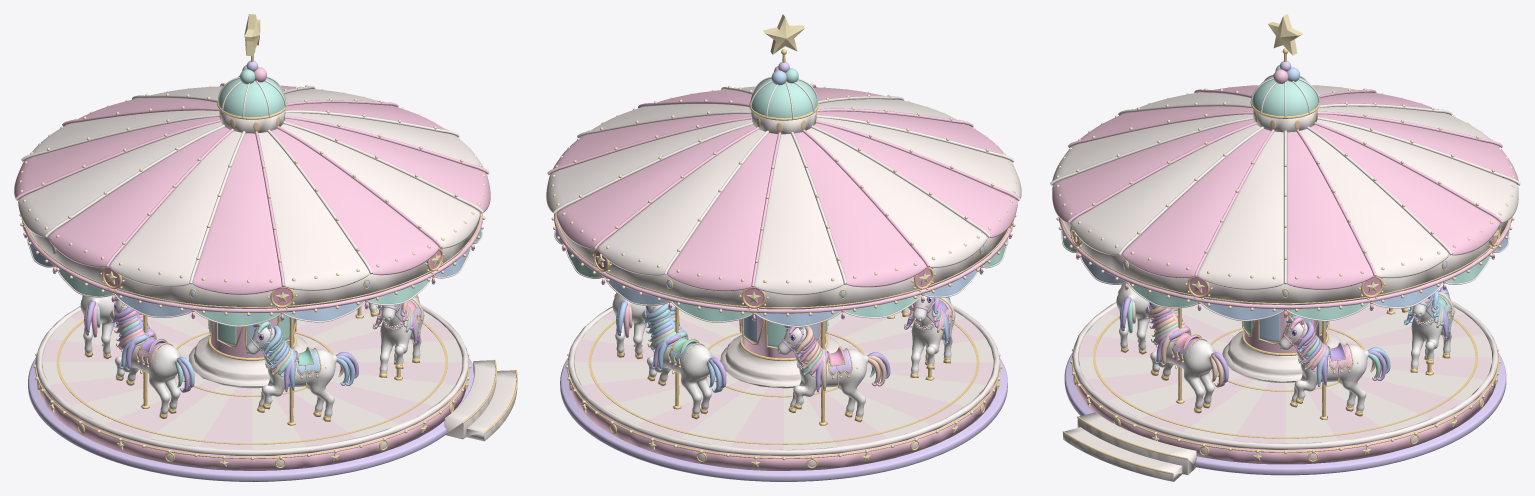
File: Carousel.fbx
3 views of the same model, side by side, from view 1: azimuth 30°, elevation 25°; view 2: azimuth 150°, elevation 25°; view 3: azimuth 270°, elevation 25° (orthographic).
Visible parts, largest first — view 1: CR_Body, CR_Horse4, CR_Horse3, CR_Stairs, CR_Horse5, CR_Horse2; view 2: CR_Body, CR_Horse2, CR_Horse1, CR_Horse3, CR_Horse0; view 3: CR_Body, CR_Horse0, CR_Stairs, CR_Horse5, CR_Horse1, CR_Horse4.
Part boxes in pixels (bbox=[...]): CR_Body: bbox=[14, 14, 490, 481]; CR_Horse4: bbox=[246, 317, 358, 425]; CR_Horse3: bbox=[110, 297, 194, 418]; CR_Stairs: bbox=[444, 359, 517, 441]; CR_Horse5: bbox=[372, 294, 424, 380]; CR_Horse2: bbox=[80, 295, 117, 359]; CR_Body: bbox=[546, 14, 1021, 481]; CR_Horse2: bbox=[777, 321, 890, 425]; CR_Horse1: bbox=[642, 303, 726, 419]; CR_Horse3: bbox=[904, 295, 955, 380]; CR_Horse0: bbox=[612, 293, 647, 359]; CR_Body: bbox=[1050, 14, 1520, 475]; CR_Horse0: bbox=[1279, 315, 1390, 419]; CR_Stairs: bbox=[1062, 412, 1196, 481]; CR_Horse5: bbox=[1145, 302, 1228, 413]; CR_Horse1: bbox=[1404, 287, 1454, 375]; CR_Horse4: bbox=[1116, 283, 1150, 354].
Bounding box in the file's own units: 7.34 × 6.32 × 7.33.
